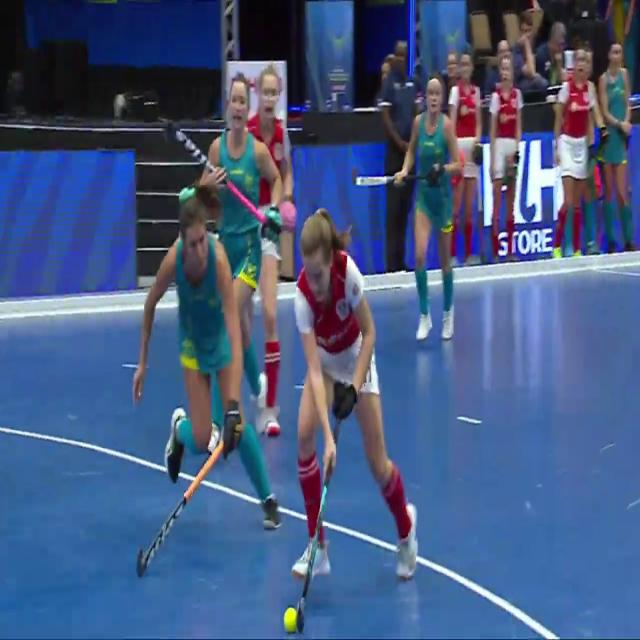ball: (278, 596, 309, 639)
